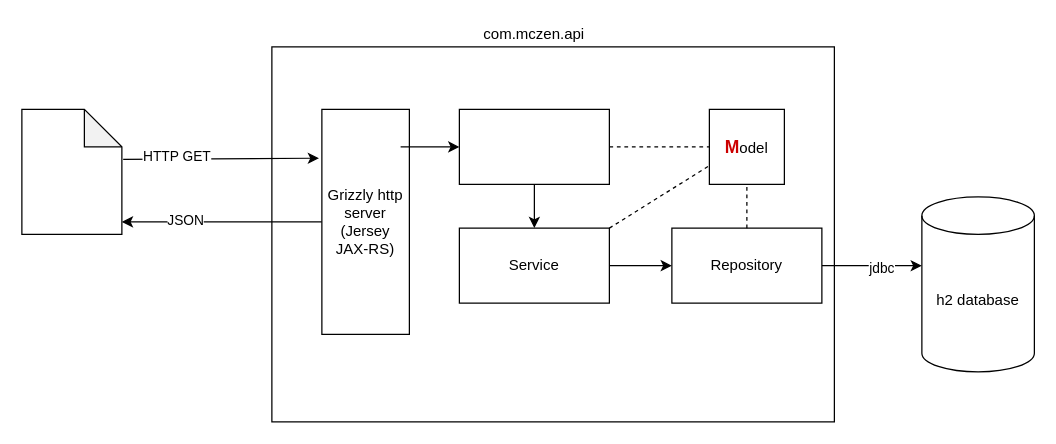
Some shapes in this 1056 by 444 pixel diagram are drawn without their labels. The box of each missing label's shape, as (x1, y1, x2, y2) in pixels:
C ontroller: (458, 108, 609, 184)
V iew: (21, 108, 122, 234)
